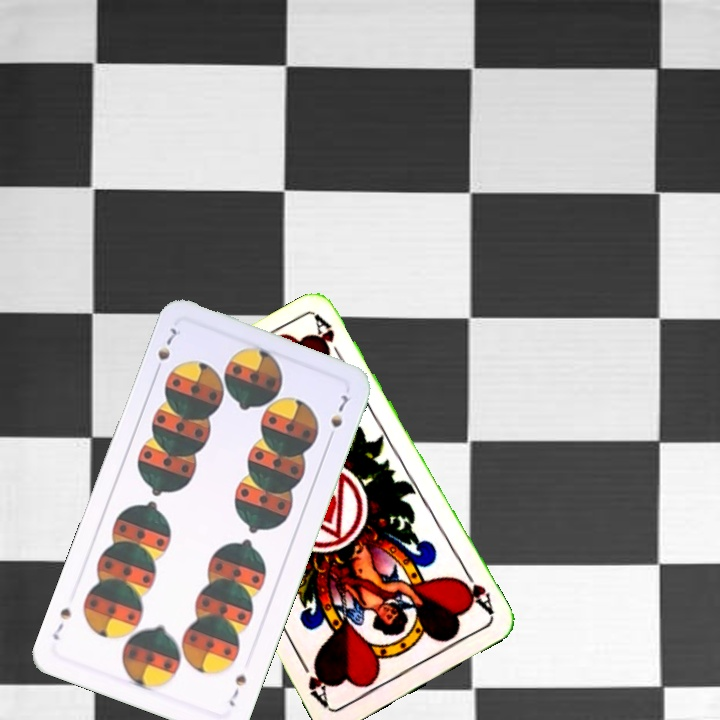HA: (454, 565, 497, 619)
S7: (150, 323, 180, 378), (224, 670, 249, 709)
